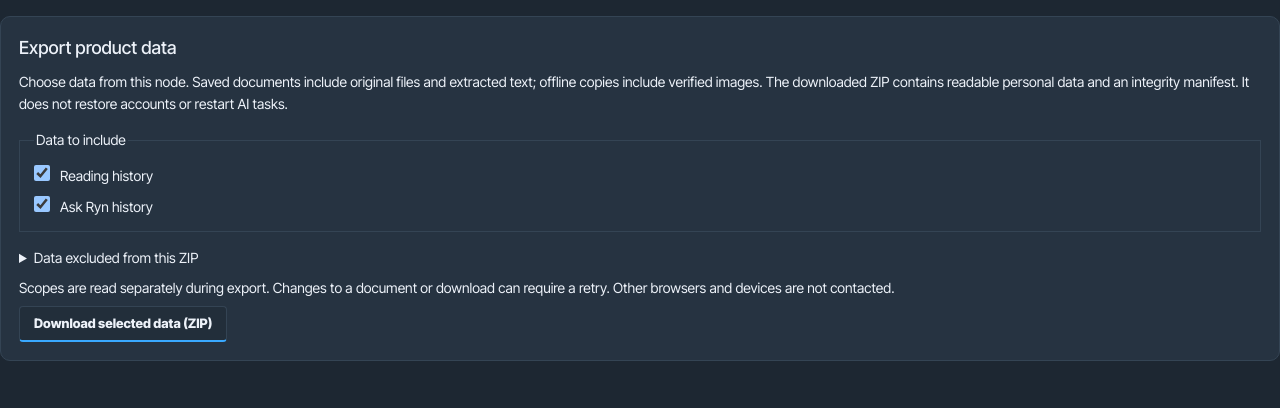
Test: downloads only explicitly selected scopes and reports a requested browser download
The width and height of the screenshot is (1280, 408).
Click the checkbox labelled "Ask Ryn history": (42, 204) [34, 196, 50, 212]
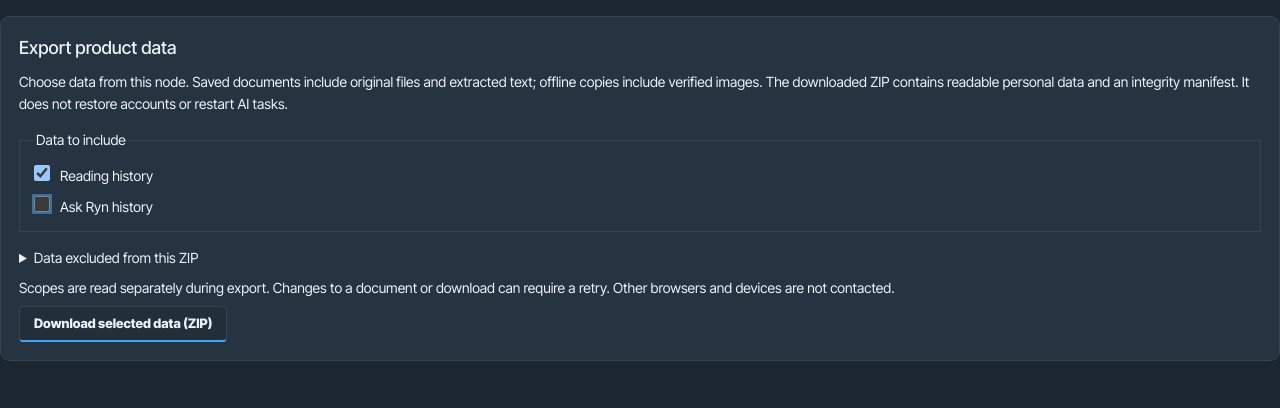
Click the button "Download selected data (ZIP)": (123, 324) [19, 306, 227, 342]
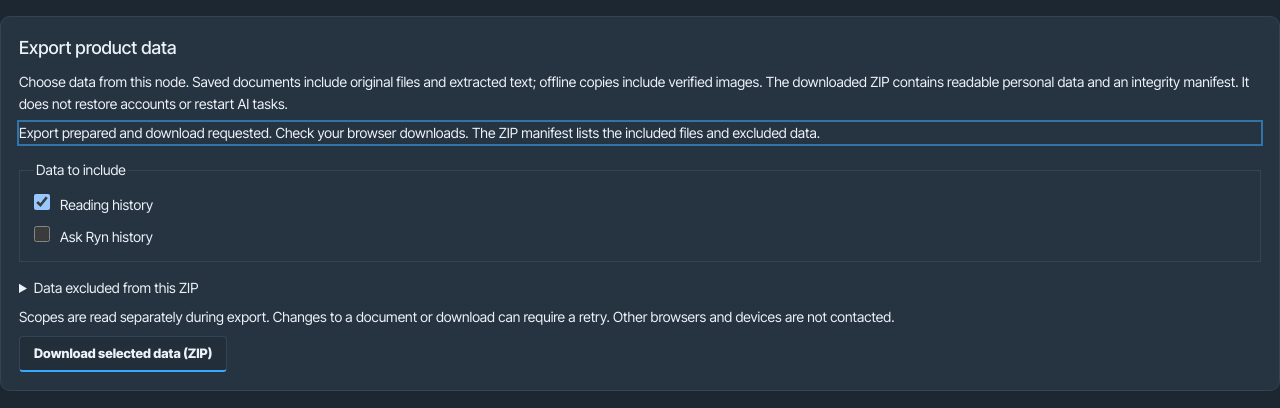
Now the message shows "download requested", box [19, 124, 820, 142]
